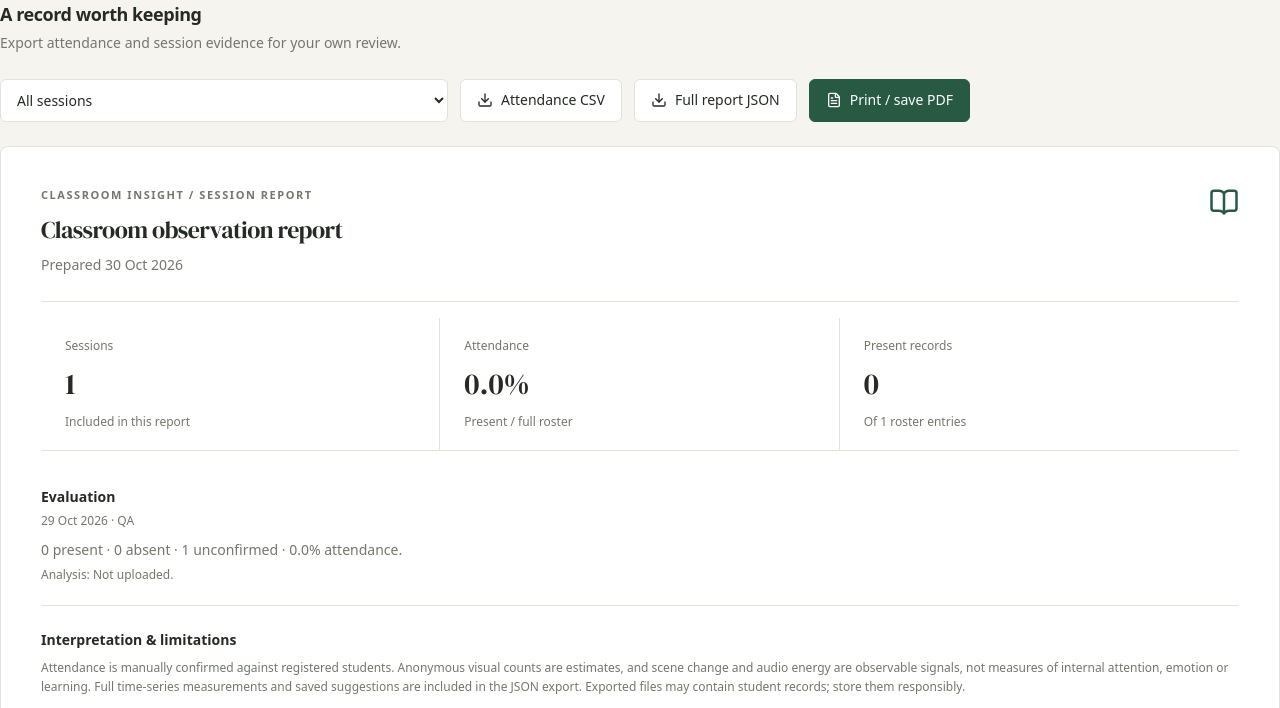
report download failure exposes a recoverable error
What coordinates should you click on to do the following:
click the button "Full report JSON"
I would click on:
 (715, 100)
Its box is x1=634 y1=79 x2=797 y2=122.
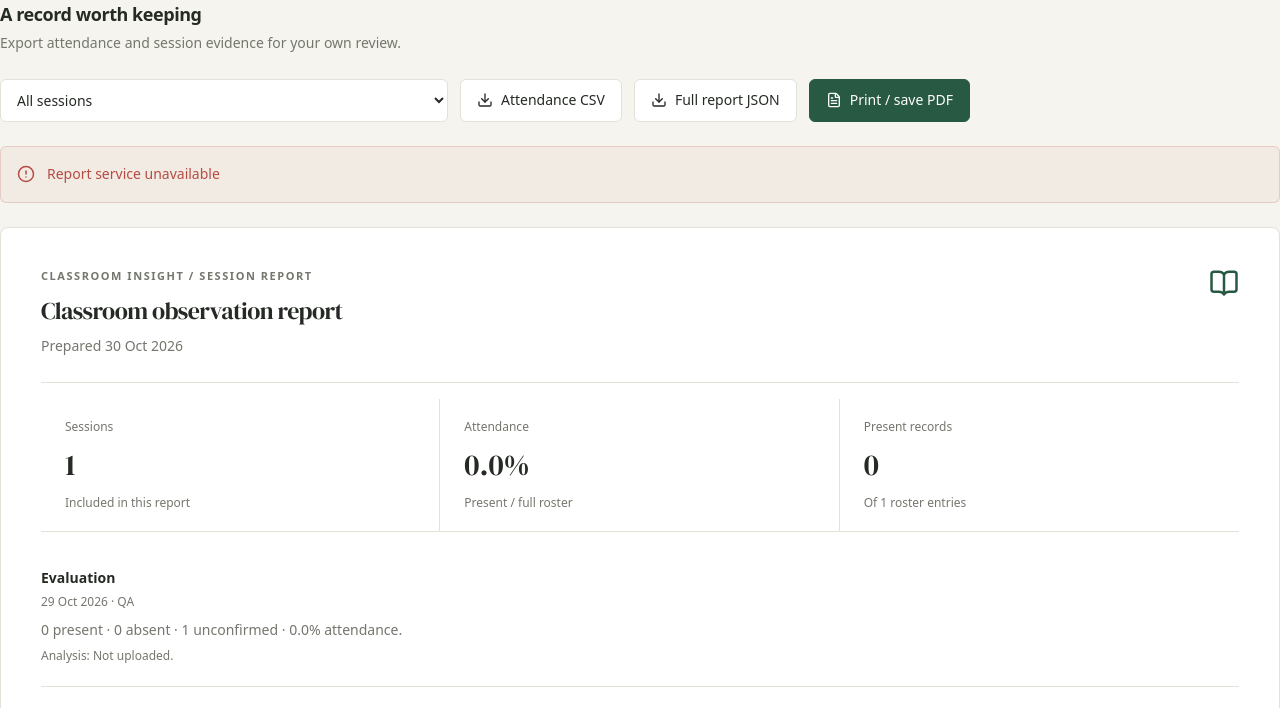
Expected: the text "Report service unavailable" is shown, x1=47 y1=163 x2=220 y2=186
